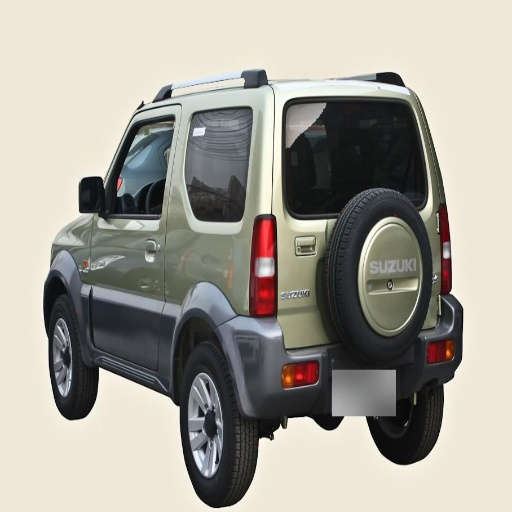back_bumper: (246, 321, 322, 376), (394, 327, 452, 378)
back_glass: (304, 101, 393, 140), (209, 146, 245, 190)
back_left_light: (249, 219, 275, 315)
tailgate: (360, 256, 418, 322)
trunk: (275, 169, 353, 348), (174, 232, 227, 314)
